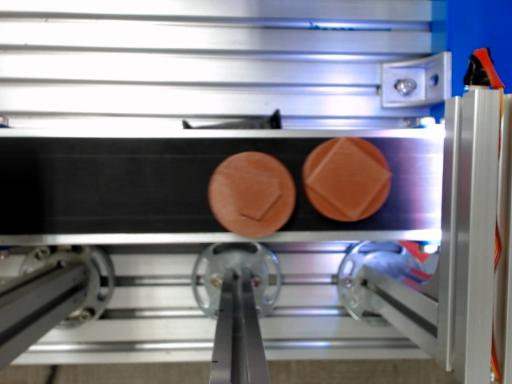Brown_Waper: (208, 152, 295, 237), (303, 138, 391, 221)
